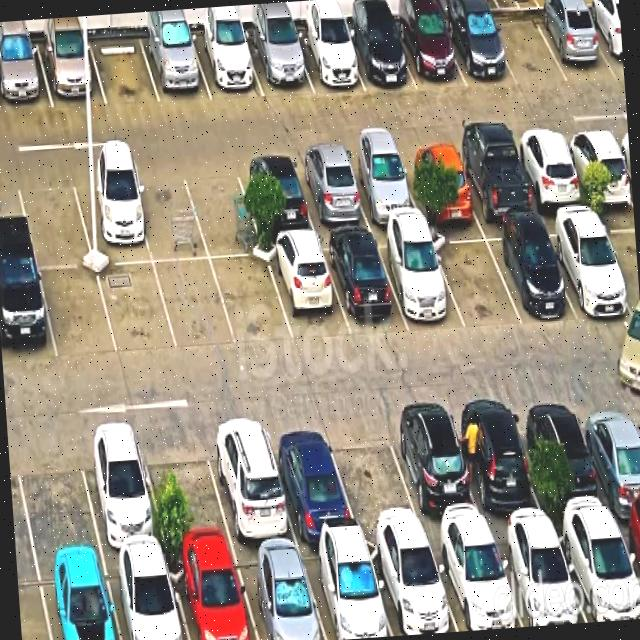empty: (20, 452, 96, 574), (152, 450, 222, 562), (338, 440, 412, 545), (443, 235, 511, 330), (140, 162, 200, 262), (102, 257, 165, 351), (45, 268, 110, 359), (197, 158, 256, 253), (21, 181, 85, 268), (94, 12, 152, 108), (216, 252, 277, 342), (160, 256, 220, 340), (495, 0, 552, 81)
occupied: (210, 448, 288, 564), (398, 424, 470, 538), (86, 458, 160, 568), (284, 447, 348, 562), (528, 406, 592, 520), (462, 419, 528, 528), (564, 217, 628, 328), (391, 230, 455, 334), (504, 222, 566, 328), (78, 163, 144, 260), (572, 529, 640, 622), (382, 549, 454, 636), (448, 540, 516, 632), (316, 549, 384, 640), (468, 134, 528, 236), (411, 132, 470, 235), (249, 556, 321, 640), (272, 242, 336, 336), (337, 231, 395, 334), (514, 534, 578, 627), (241, 153, 307, 243), (522, 132, 580, 234), (574, 126, 631, 228), (177, 561, 250, 640), (146, 8, 204, 107), (588, 409, 640, 516), (350, 0, 407, 92), (198, 4, 253, 98), (354, 144, 410, 234), (251, 1, 305, 94), (41, 574, 117, 640), (302, 0, 355, 94), (114, 569, 182, 640), (402, 0, 456, 89), (42, 15, 94, 104), (304, 150, 358, 234), (0, 271, 49, 361), (452, 0, 504, 83), (541, 0, 596, 70), (0, 19, 41, 108)
